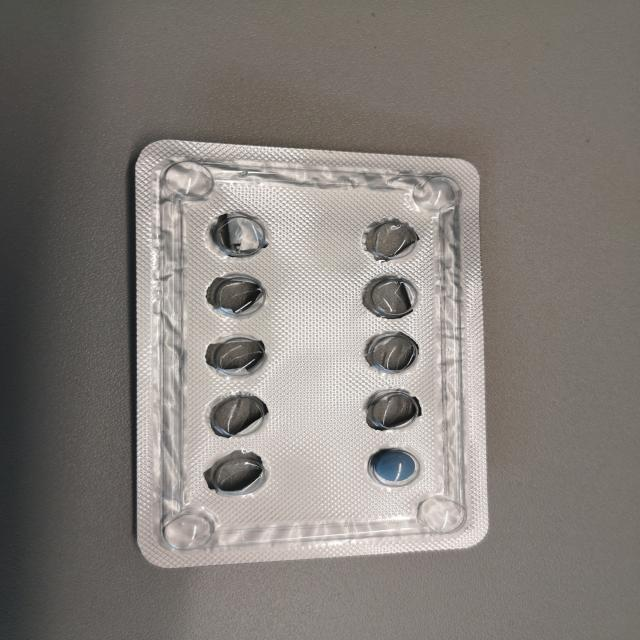Empty: (200, 272, 274, 321), (201, 210, 272, 259), (202, 329, 270, 379), (206, 392, 271, 440), (205, 452, 270, 499), (357, 216, 420, 264), (362, 330, 423, 377), (360, 274, 423, 318), (361, 388, 421, 433)
Pill: (362, 444, 422, 489)
